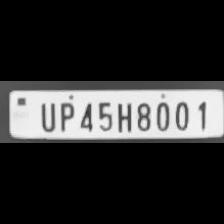0: (170, 99, 192, 131), (154, 99, 170, 131)
1: (192, 98, 212, 130)
4: (76, 99, 94, 131)
5: (94, 99, 114, 131)
8: (134, 99, 152, 130)
H: (114, 100, 132, 132)
P: (56, 100, 75, 132)
U: (36, 100, 56, 132)
